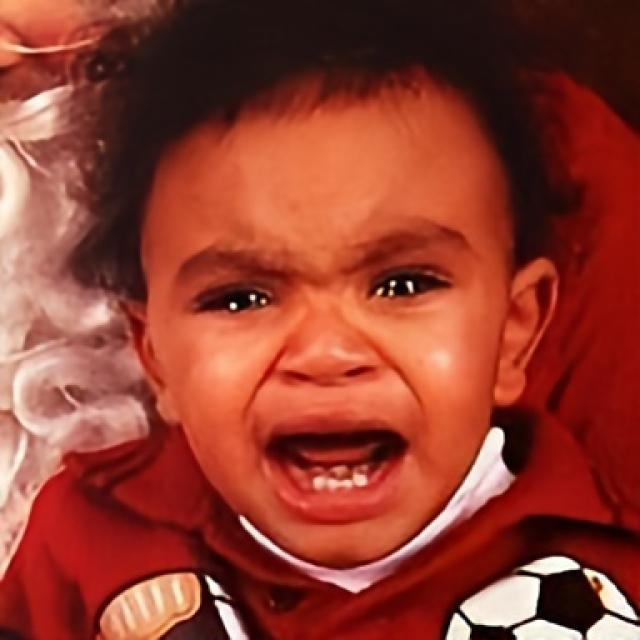sad: (140, 70, 518, 570)
